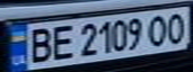0: (112, 17, 130, 52)
1: (96, 18, 115, 54)
2: (75, 20, 100, 57)
9: (124, 16, 148, 51)
B: (21, 25, 54, 64)
E: (48, 21, 78, 61)
O: (163, 9, 190, 45), (145, 12, 172, 47)
